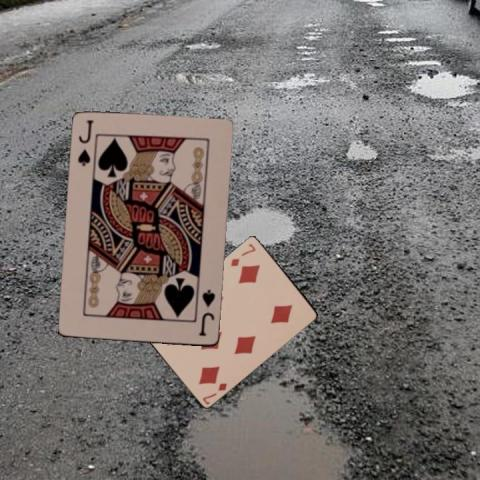7d: (227, 241, 257, 267), (199, 380, 229, 405)
Js: (196, 287, 217, 338), (76, 117, 96, 168)
